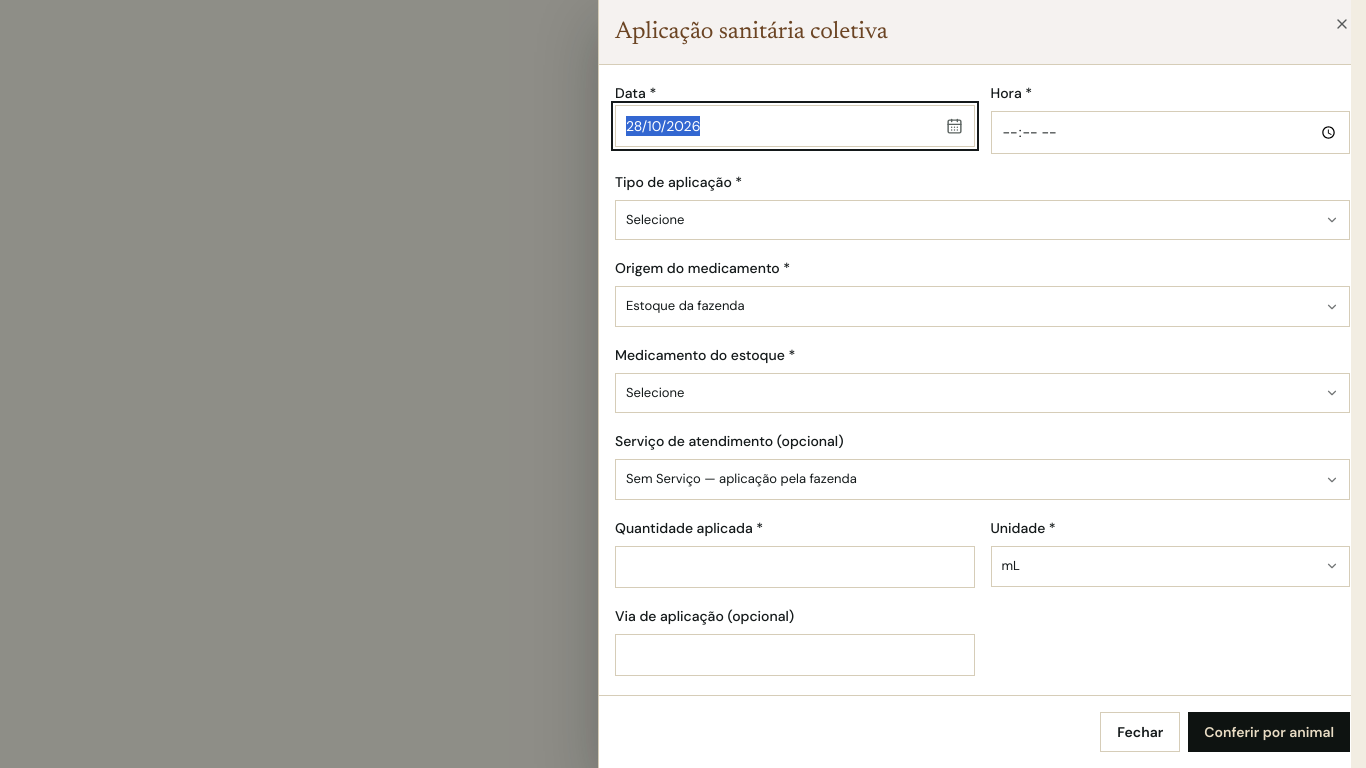
Test: aplicação sanitária V3 › identifica animais de outro sítio e recusa o conjunto antes de enviar
The width and height of the screenshot is (1366, 768).
Click the dropdown named "Tipo de aplicação".
click(655, 219)  # box [615,200,1350,240]
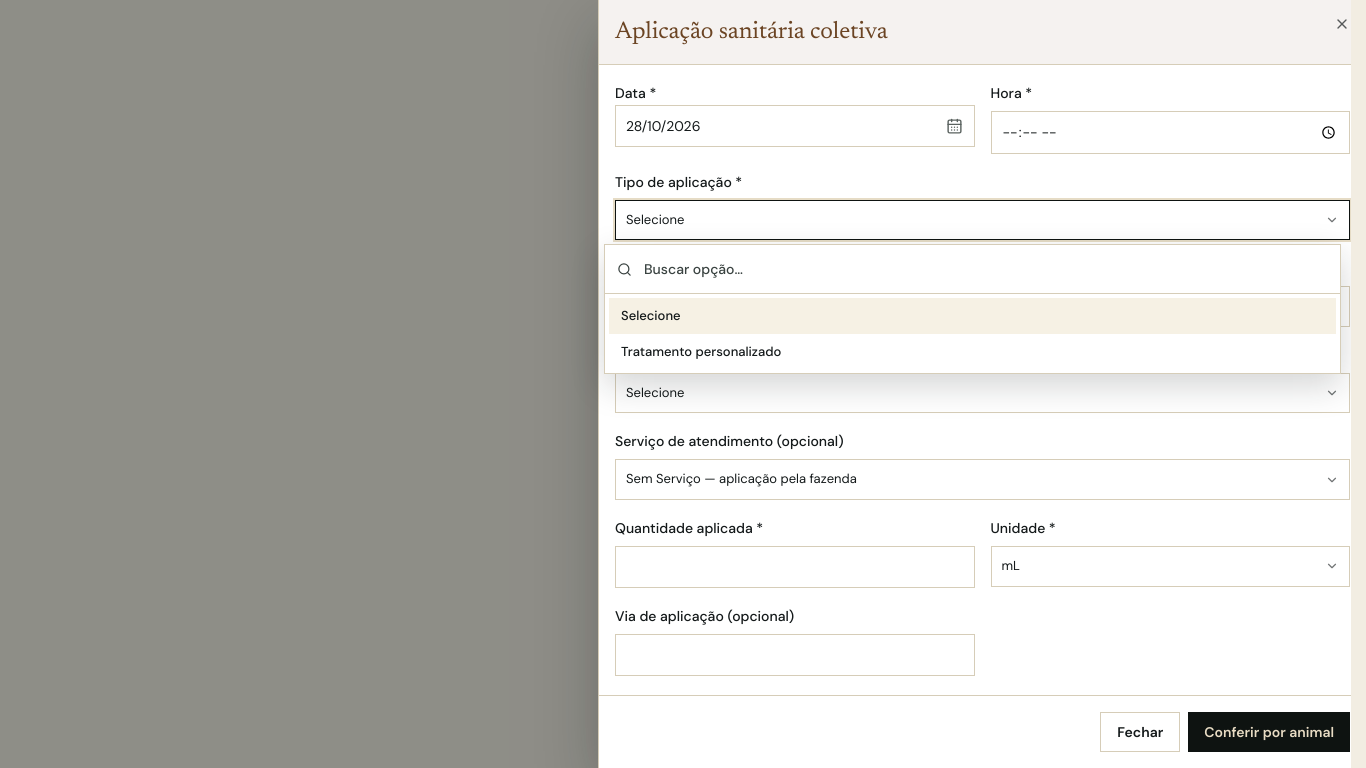
Click the option "Tratamento personalizado".
click(701, 351)  # box [621,342,781,360]
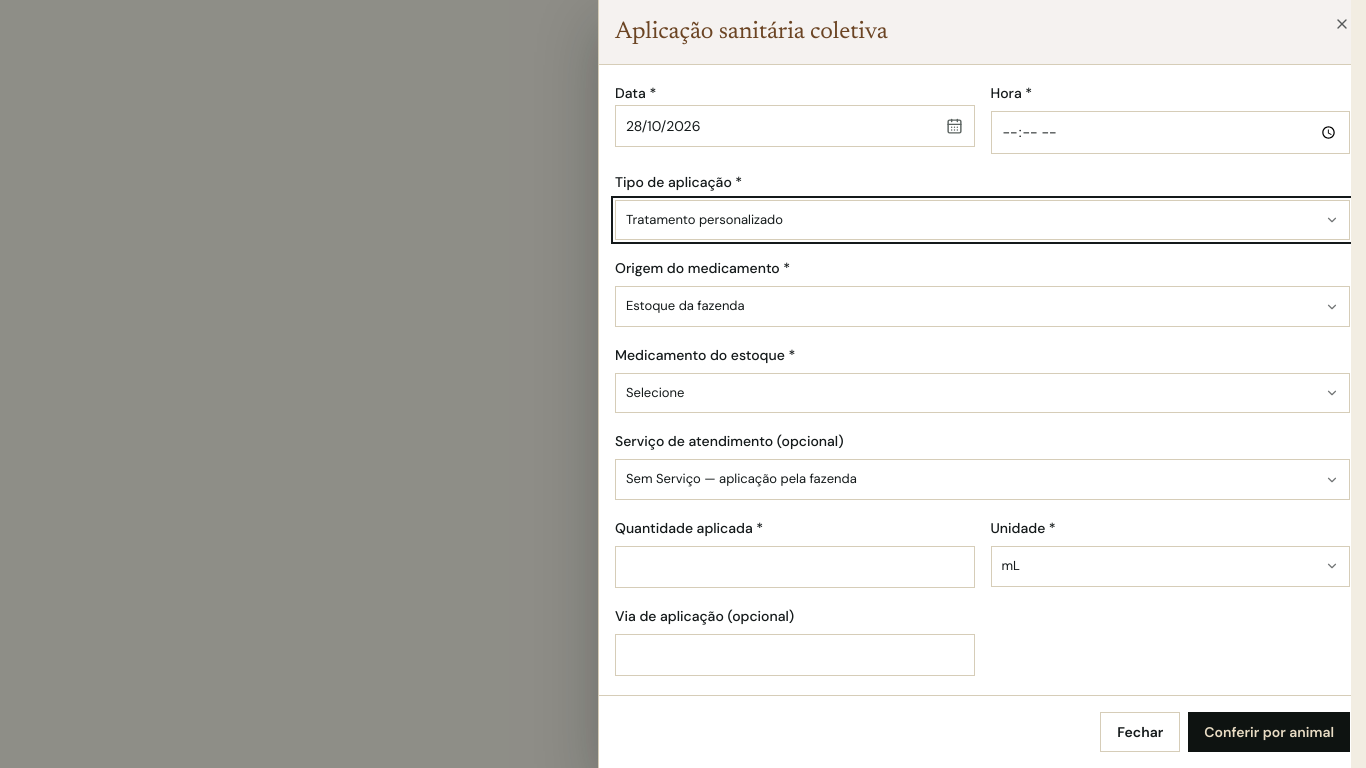
Click the dropdown named "Medicamento do estoque".
click(655, 392)  # box [615,373,1350,413]
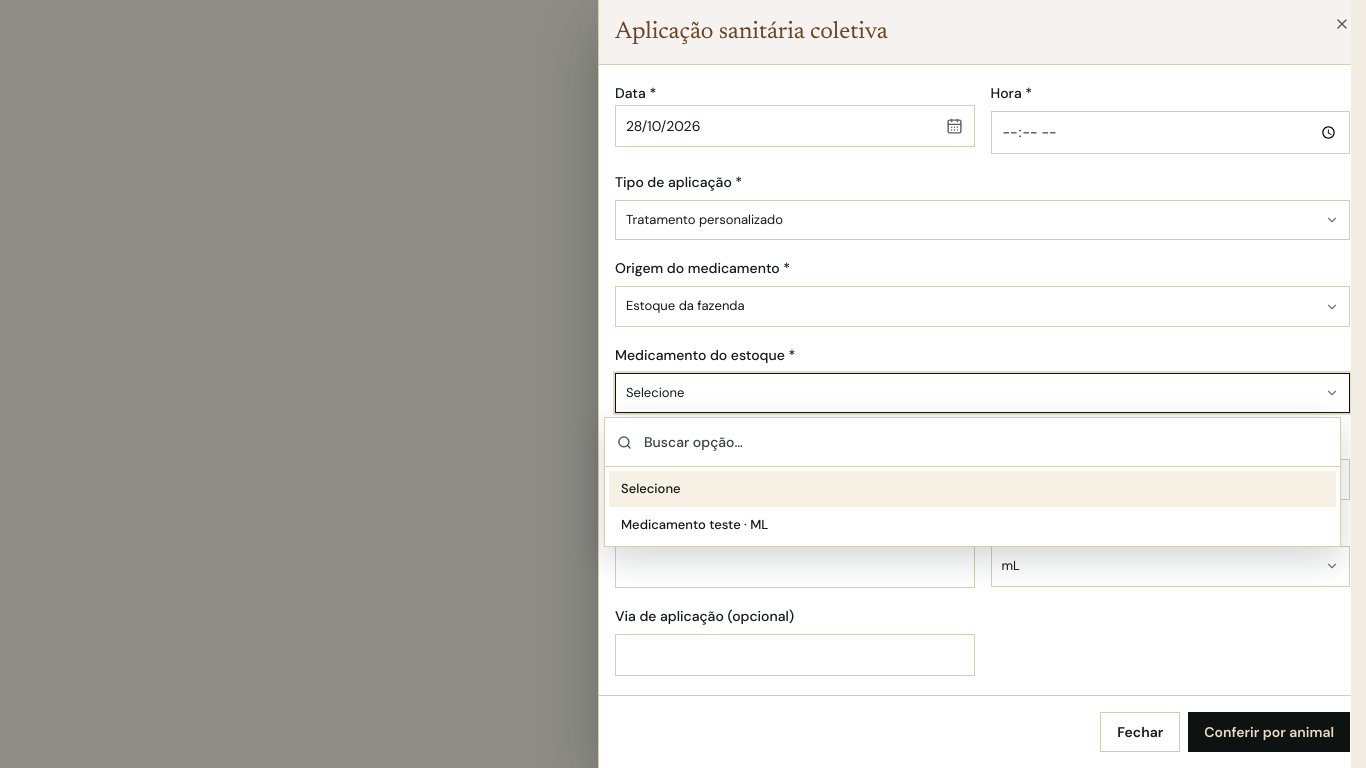
Click the option "Medicamento teste · ML".
click(695, 524)  # box [621,516,768,532]
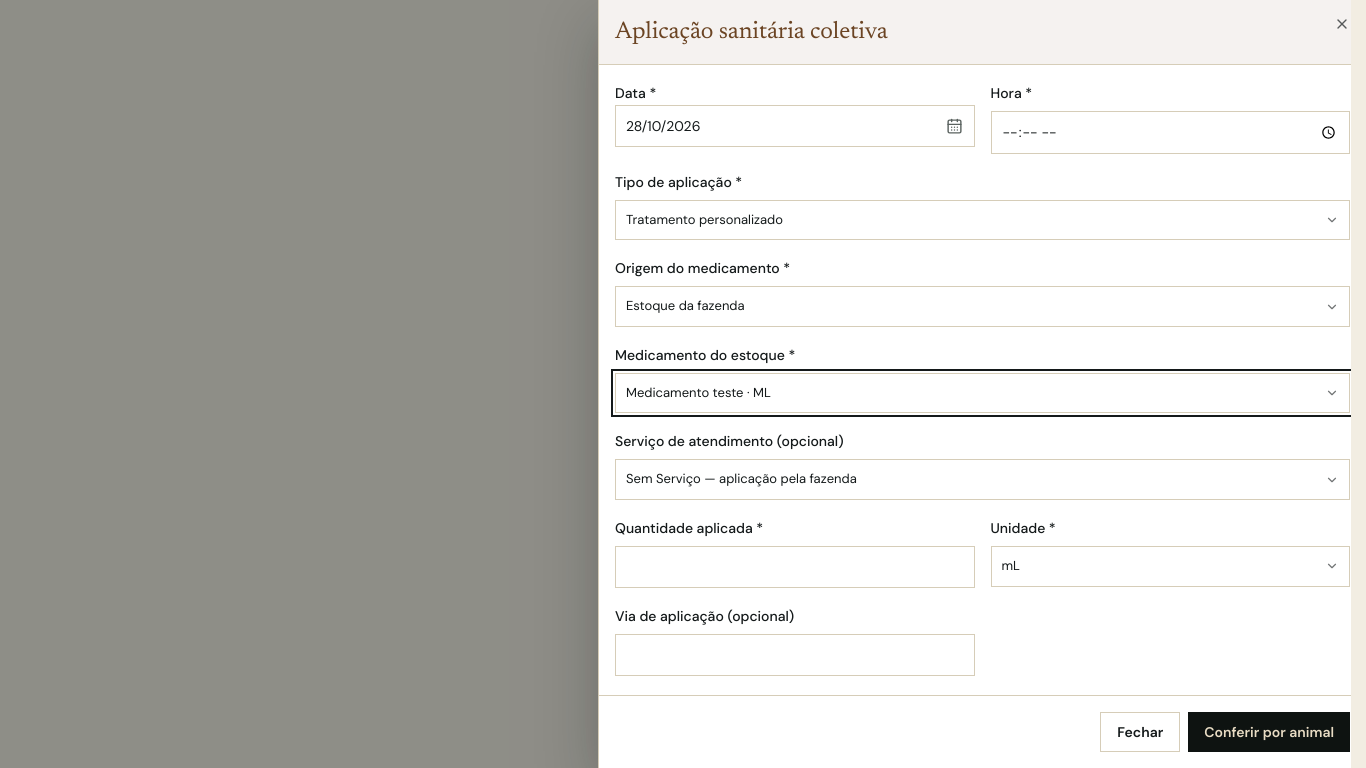
Type "10" into the number field labelled "Quantidade aplicada *".
click(795, 567); type("10")  # box [615,546,974,588]
Replace the text in the field labelled "Data *" with "2026-09-10" at (795, 126), box [615,105,974,147]
Type "10:00" into the time field labelled "Hora *".
click(1170, 132); type("10:00")  # box [990,111,1350,154]
(page scrolled)
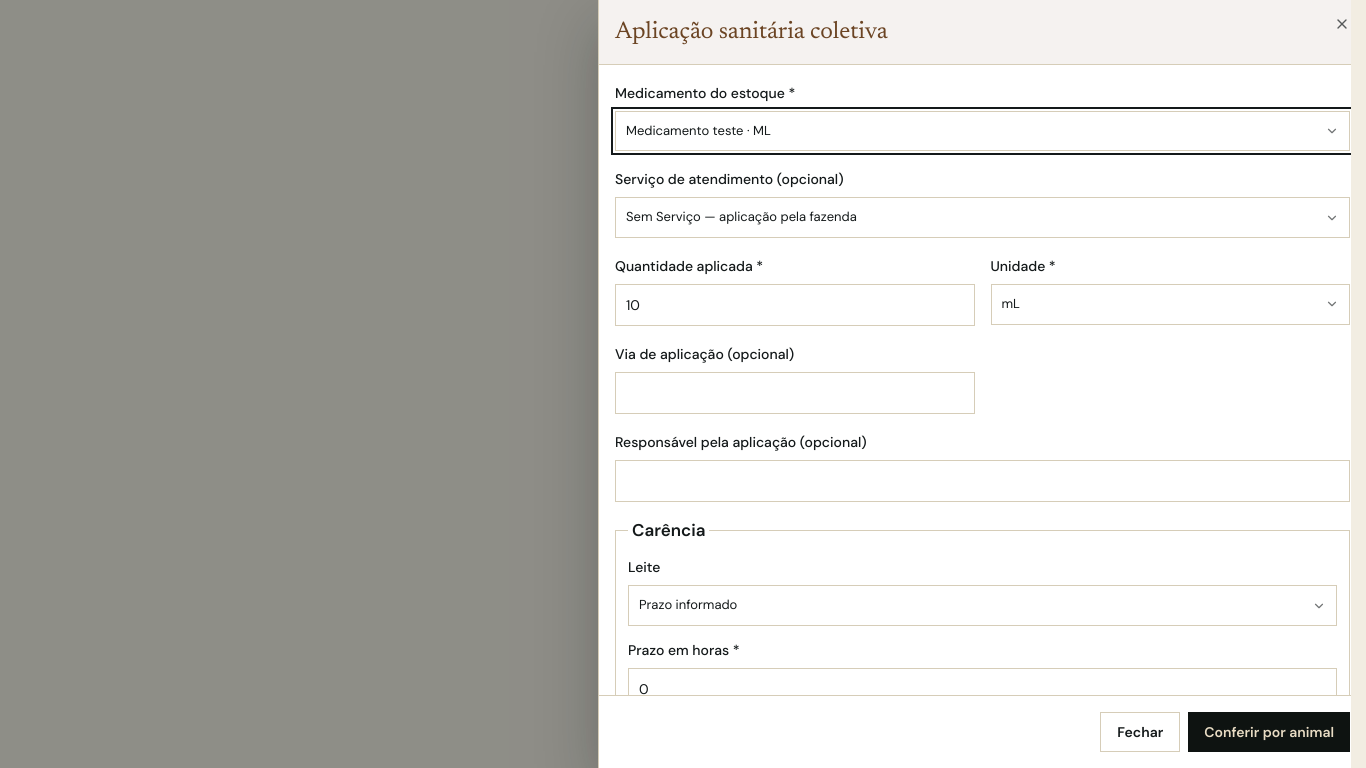
Submit the form with id "form-aplicacao-sanitaria"
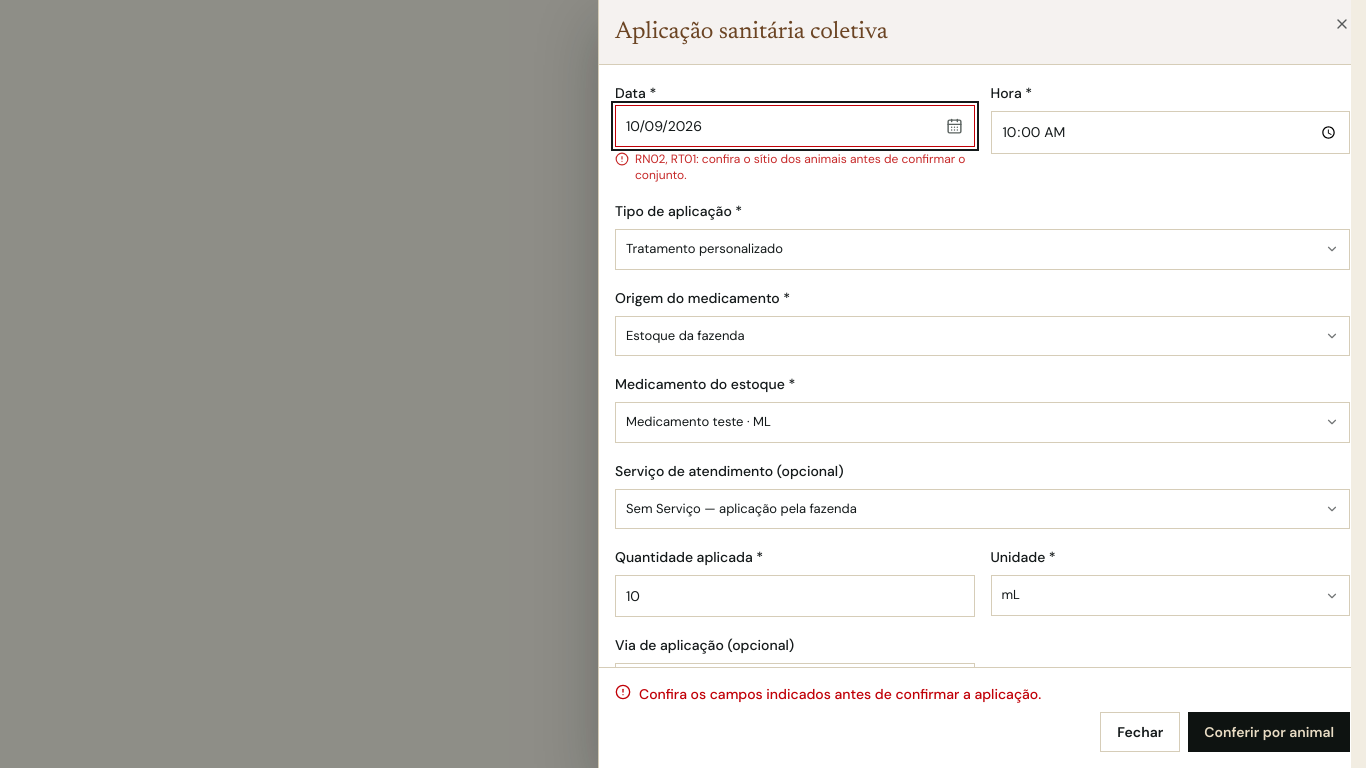
Expected: the message with id "san-data-erro" shows "RN02, RT01", [635,151,966,183]
